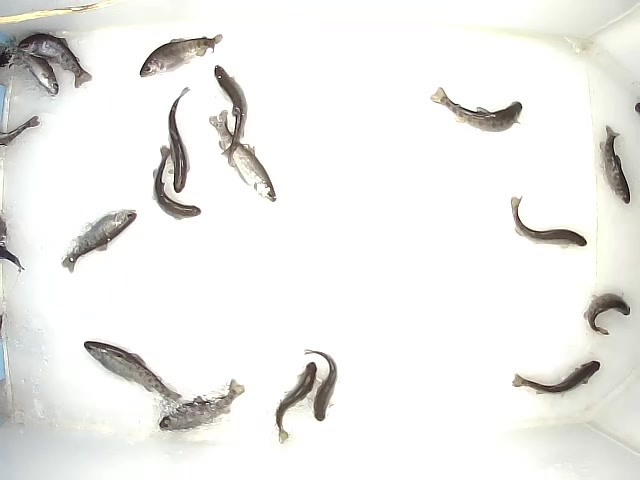fish: (82, 339, 184, 405), (208, 109, 278, 204), (60, 208, 139, 274), (159, 377, 246, 432), (428, 86, 523, 134), (17, 31, 95, 88), (149, 145, 203, 222), (510, 196, 587, 250), (138, 31, 224, 78), (275, 361, 319, 446), (510, 360, 601, 400), (214, 63, 248, 169), (4, 36, 59, 97), (303, 348, 339, 425), (167, 85, 192, 194), (599, 124, 632, 205), (582, 291, 632, 336)
